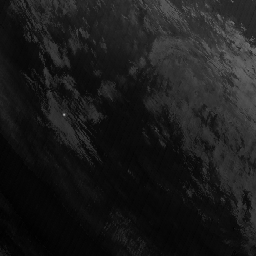Target: (61, 113, 65, 117)
